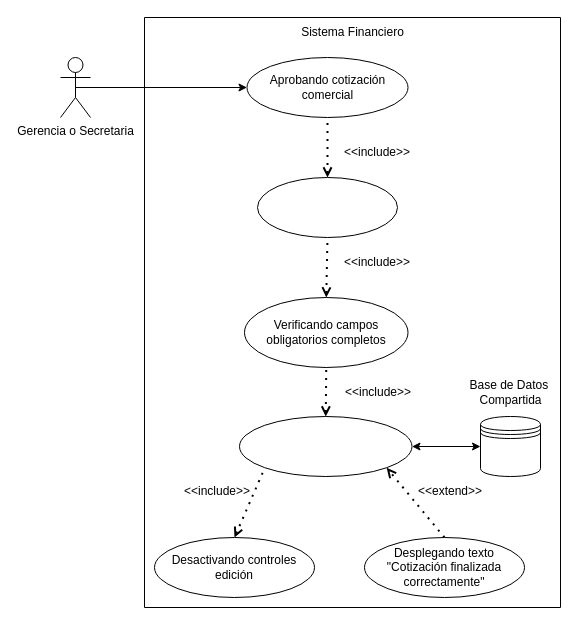
The diagram is 583 pixels wide and 625 high, and some of its shapes have lost their labels. Here are the shapes that lost their labels. From the top down, the centre of each, then its label:
(x=327, y=207): Interactuando con Botón "Aprobar"
(x=325, y=446): Actualizando estado "Provisional" a "Aprobada"
